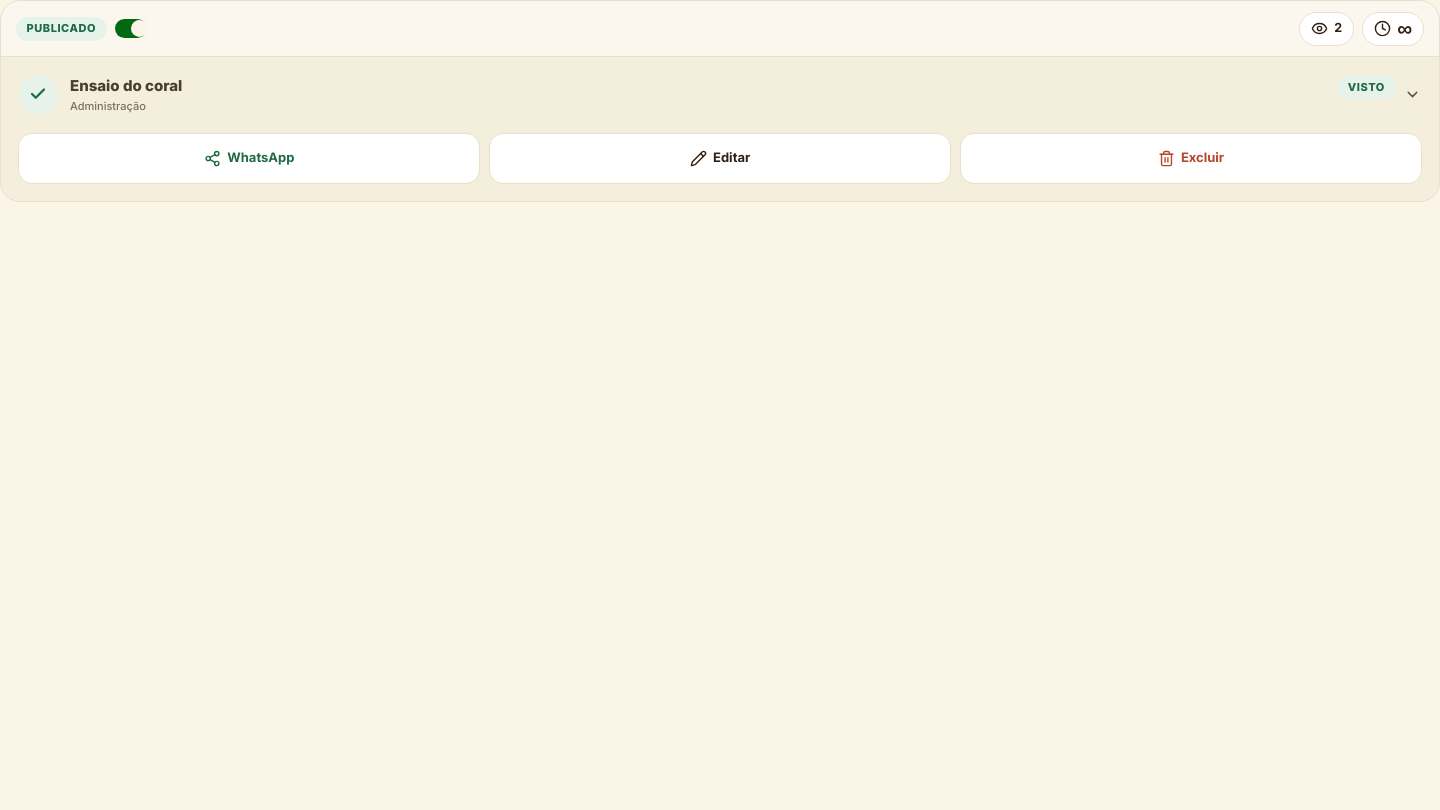
Test: AnnouncementCard — barra compacta do admin › janela de quem viu: só nomes, com N de T e sem data/hora
Click the button named "2 viram" at (1327, 29), box [1299,12,1354,46]
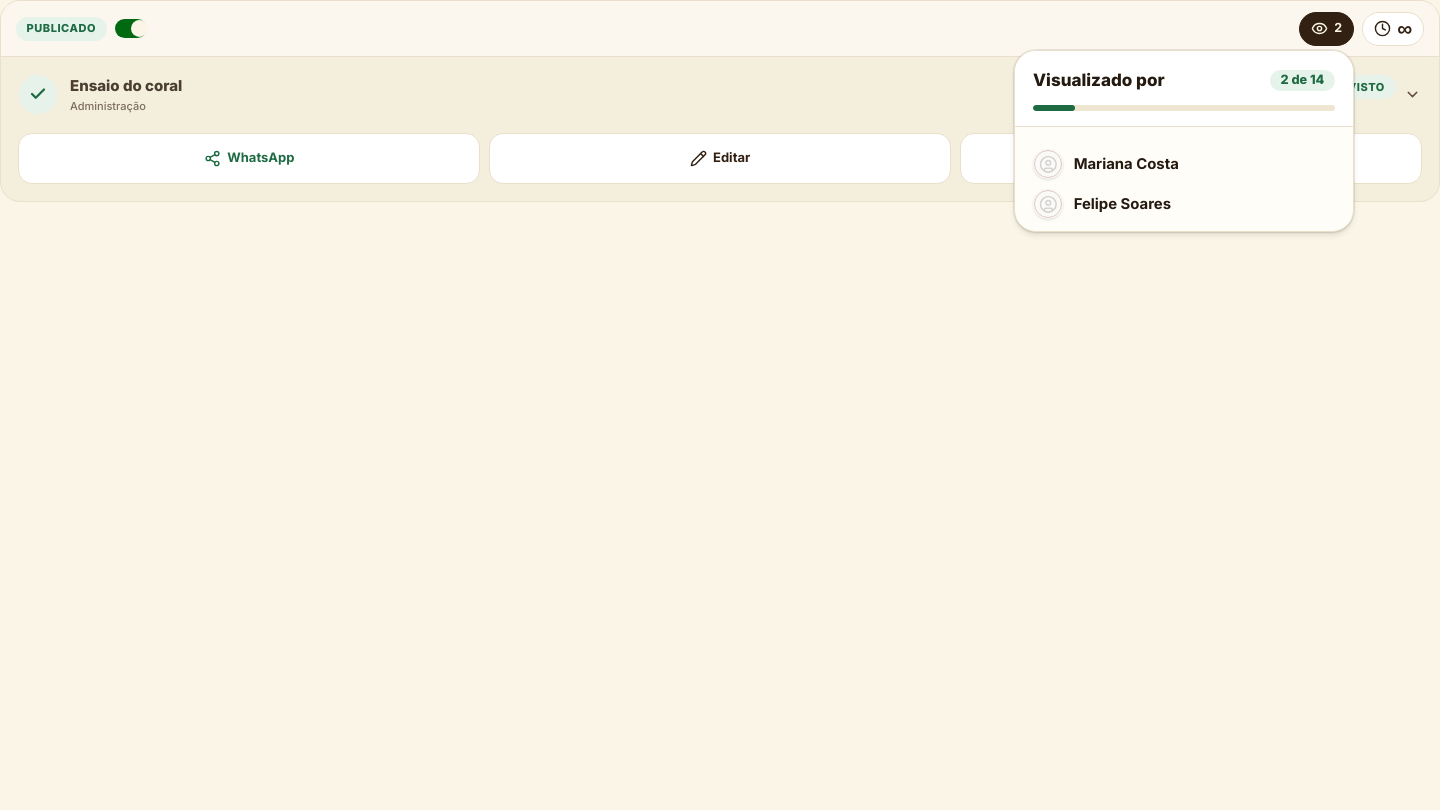
Expected: the heading "Visualizado por" is shown, [1033,70,1164,90]
Expected: the text "2 de 14" is shown, [1270,70,1335,91]
Expected: the text "Mariana Costa" is shown, [1074,155,1179,173]
